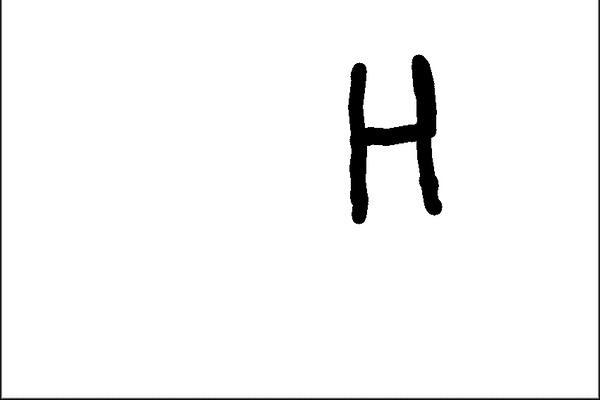H: (340, 48, 444, 233)
